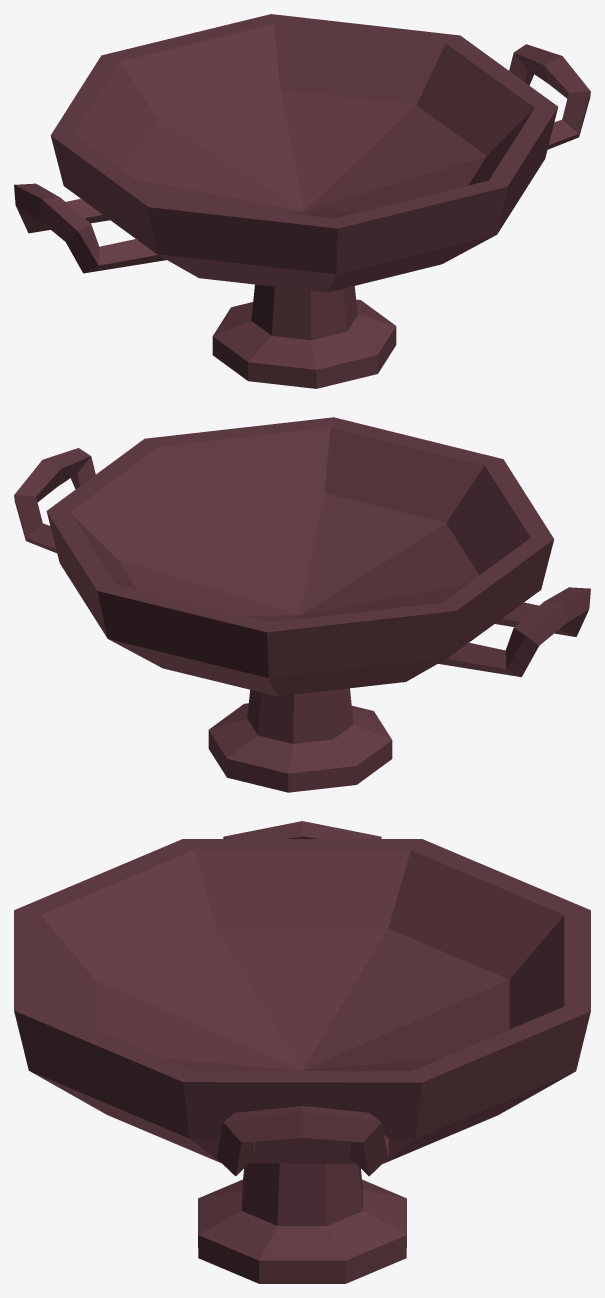
File: SM_Vase_Kylix_Empire.fbx
3 views of the same model, one above another, from view 1: azimuth 30°, elevation 25°; view 2: azimuth 150°, elevation 25°; view 3: azimuth 270°, elevation 25° (orthographic). The views are drawn at different scales.
Visible parts, largest first — view 1: SM_Vase_Kylix_Empire; view 2: SM_Vase_Kylix_Empire; view 3: SM_Vase_Kylix_Empire.
Boxes of the visible parts, x1,y1,x2,y2 form: SM_Vase_Kylix_Empire: (14,14,590,388); SM_Vase_Kylix_Empire: (14,417,590,792); SM_Vase_Kylix_Empire: (14,821,590,1283).
Bounding box in the file's own units: 0.9801 × 0.4098 × 0.7601.
